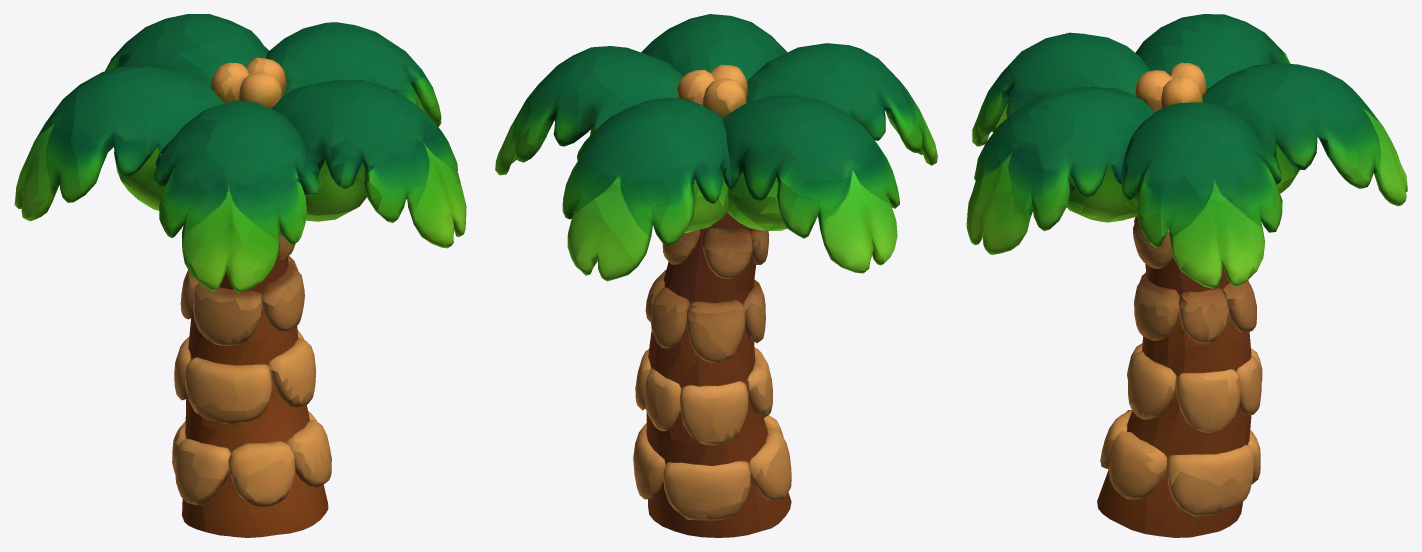
Rendered from la_palmera.glb.
3 views of the same model, side by side, from view 1: azimuth 30°, elevation 25°; view 2: azimuth 150°, elevation 25°; view 3: azimuth 270°, elevation 25° (orthographic). The views are drawn at different scales.
Size of the model in its own units: 0.9355 by 1 by 0.9102.
1 material, 1 textured.
